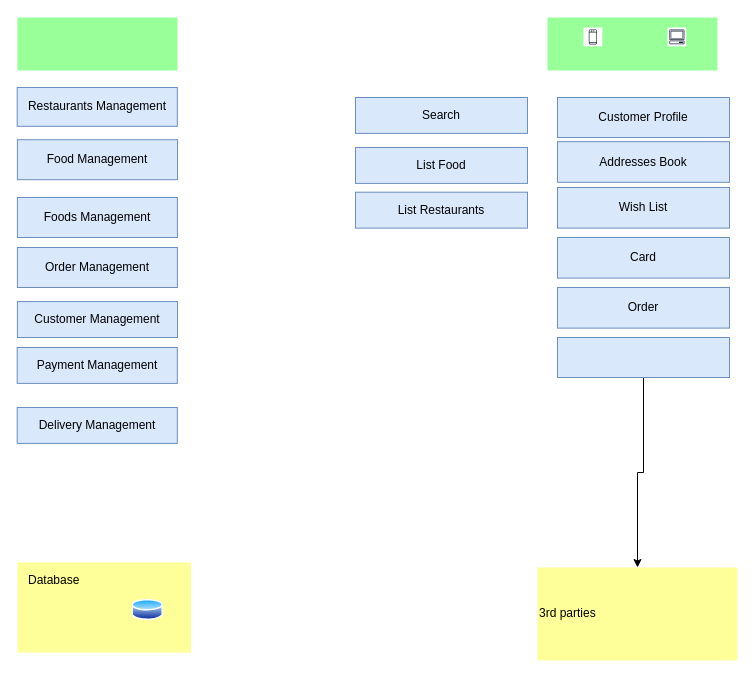
This 755x677 diagram has some shape labels left out. Here are the shapes that lost their labels. From the top down, the centre of each, then its label:
At point (97, 43): "Admin Backoffice".
At point (592, 36): "Mobile client".
At point (676, 36): "Client".
At point (643, 357): "Payment".
